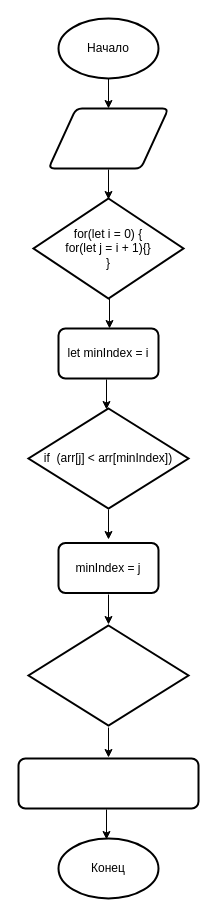
Some shapes in this 216 by 916 pixel diagram are drawn without their labels. The box of each missing label's shape, as (x1, y1, x2, y2) in pixels:
[arr[i],arr[minIndex]] = [arr[minIndex],arr[i]]: (17, 757, 199, 809)
arrSelect = []: (47, 107, 169, 169)
if (minIndex !== i): (27, 624, 189, 726)
